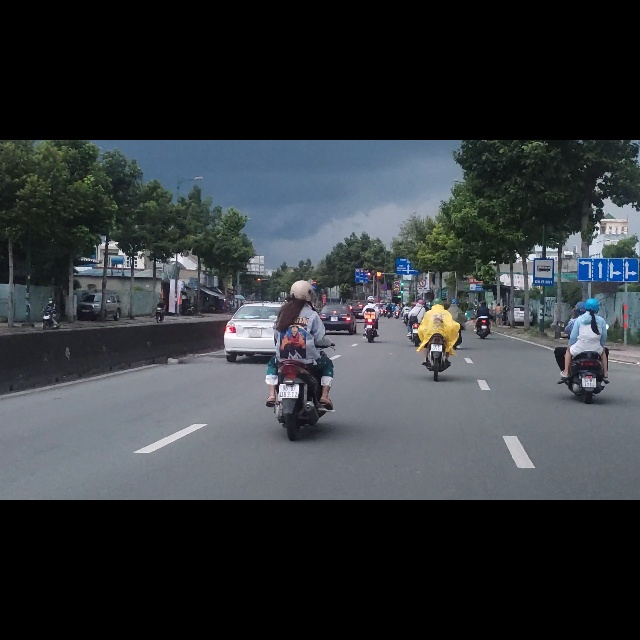bien_chi_dan: (533, 209, 554, 258), (419, 248, 426, 261)
